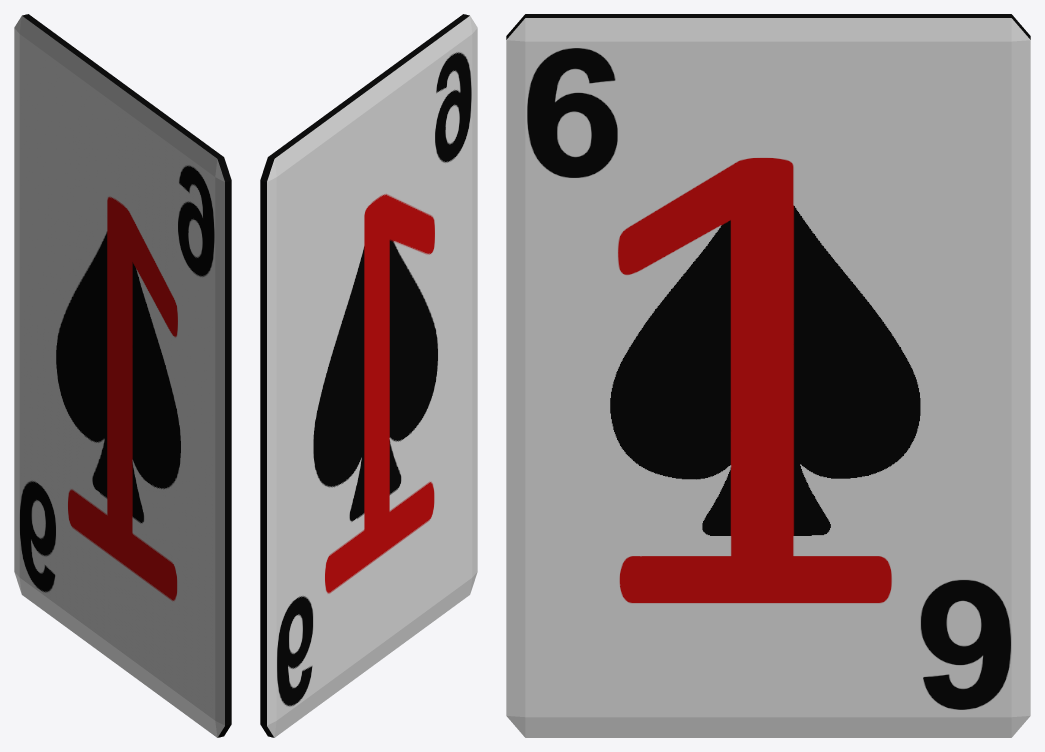
File: 6ofspades.fbx
3 renders of one model, left to right at view 1: azimuth 30°, elevation 25°; view 2: azimuth 150°, elevation 25°; view 3: azimuth 270°, elevation 25°, orthographic. The views are drawn at different scales.
Visible parts, largest first — view 1: pCube2; view 2: pCube2; view 3: pCube2.
Part boxes in pixels (bbox=[...]): pCube2: bbox=[14, 14, 231, 737]; pCube2: bbox=[260, 14, 477, 737]; pCube2: bbox=[506, 14, 1030, 737].
Size of the model in its own units: 0.1308 by 6.5 by 4.29.
Materials: 2 (1 with a texture image).
